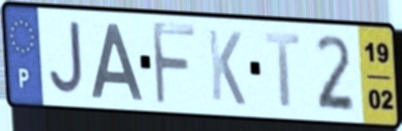2: (316, 33, 359, 115)
A: (89, 20, 146, 103)
F: (149, 19, 199, 108)
J: (47, 19, 86, 99)
K: (205, 26, 248, 109)
T: (262, 32, 303, 111)
